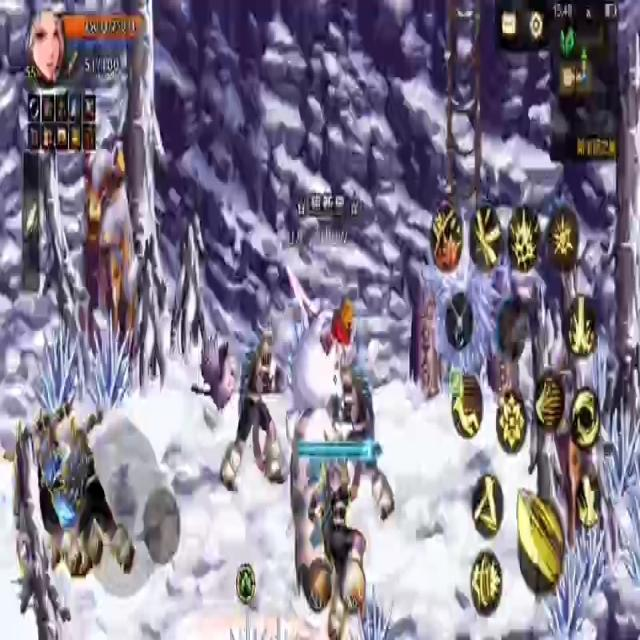player: (287, 297, 356, 437)
